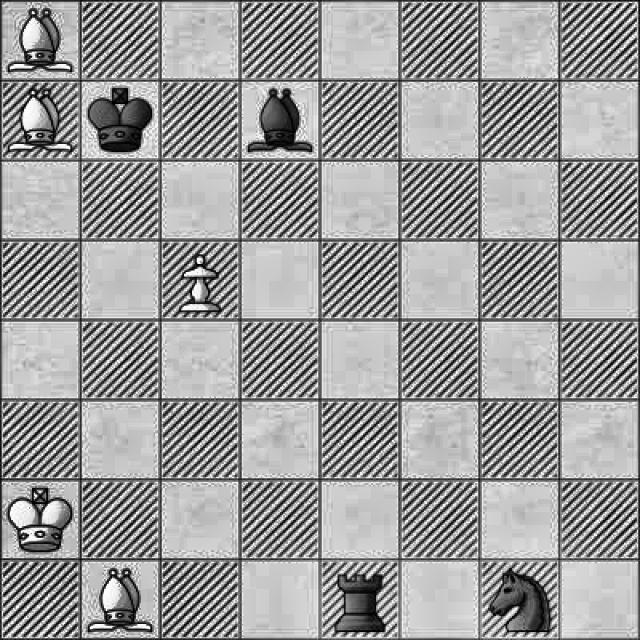Black Knight: (480, 560, 555, 640)
black bishop: (247, 83, 316, 157)
black king: (84, 84, 156, 156)
black rook: (328, 564, 393, 634)
white bishop: (4, 2, 78, 76), (86, 563, 156, 639), (8, 81, 72, 159)
white king: (4, 488, 75, 556)
white pawn: (168, 243, 229, 316)
